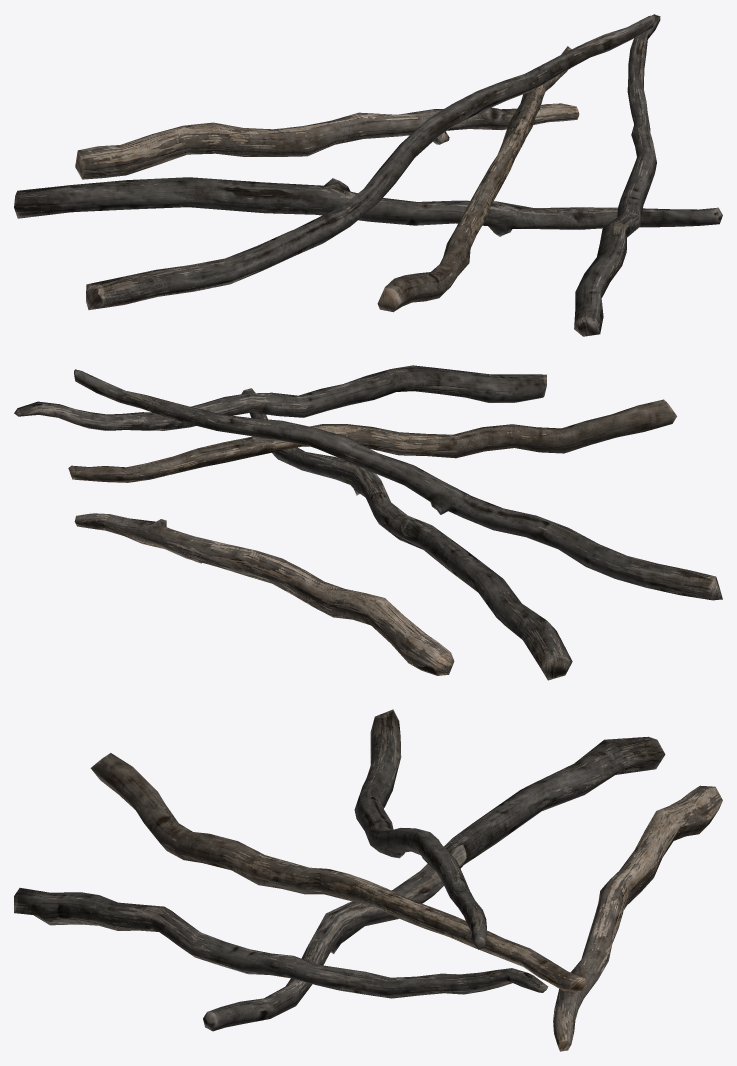
File: SM_Twigs_Debris_A.fbx
The picture shows the model from 3 angles, top to bottom: view 1: azimuth 30°, elevation 25°; view 2: azimuth 150°, elevation 25°; view 3: azimuth 270°, elevation 25°; orthographic projection. The views are drawn at different scales.
Parts seen in each view (by area): view 1: SM_Twigs_Debris_A_LOD0; view 2: SM_Twigs_Debris_A_LOD0; view 3: SM_Twigs_Debris_A_LOD0.
Boxes of the visible parts, box(x1,y1,x2,y2) form: SM_Twigs_Debris_A_LOD0: box(14, 14, 722, 336); SM_Twigs_Debris_A_LOD0: box(14, 365, 722, 680); SM_Twigs_Debris_A_LOD0: box(14, 709, 722, 1051).
Size of the model in its own units: 142 by 121 by 25.64.
Materials: 1 (1 with a texture image).
